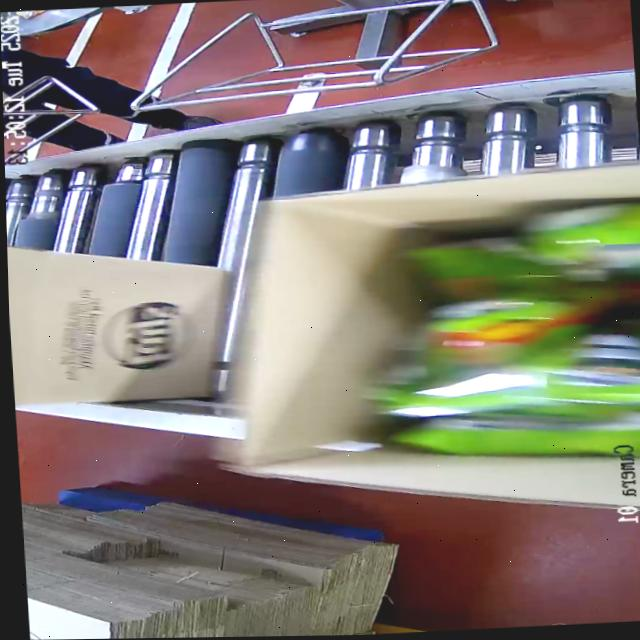YOGURT_HERB: (372, 207, 640, 466)
